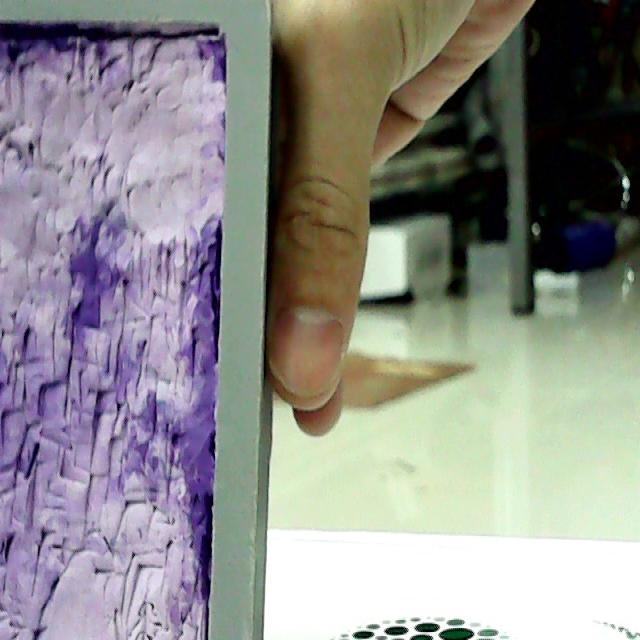block: (0, 7, 274, 632)
